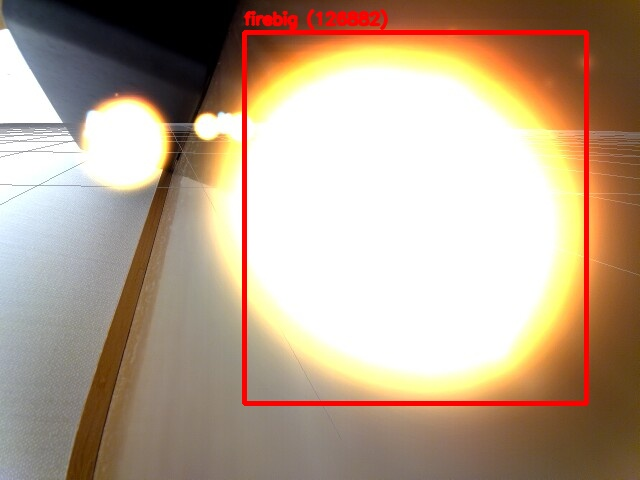firebig: (244, 32, 586, 403)
